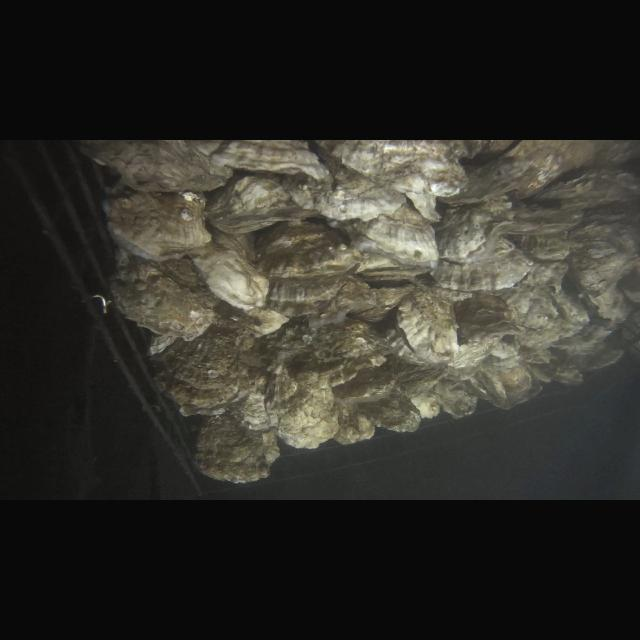Oyster-Closed: (109, 245, 221, 338), (444, 140, 598, 202), (284, 144, 408, 220), (101, 183, 215, 260), (316, 140, 468, 197), (504, 256, 592, 352), (75, 140, 233, 193), (205, 176, 318, 237), (188, 225, 268, 311), (156, 329, 240, 408), (287, 322, 389, 386), (192, 413, 280, 483), (268, 364, 338, 452), (431, 235, 534, 292), (348, 199, 439, 263), (566, 218, 640, 296), (514, 172, 638, 218), (187, 140, 329, 180), (434, 194, 518, 260), (257, 221, 359, 275), (394, 284, 462, 361), (473, 362, 542, 410), (266, 274, 346, 314), (459, 294, 517, 344), (344, 286, 412, 322), (232, 370, 270, 430), (361, 397, 421, 435), (352, 256, 430, 284), (433, 378, 479, 418), (334, 404, 376, 444), (234, 308, 286, 338), (405, 380, 441, 420), (336, 382, 396, 400)
